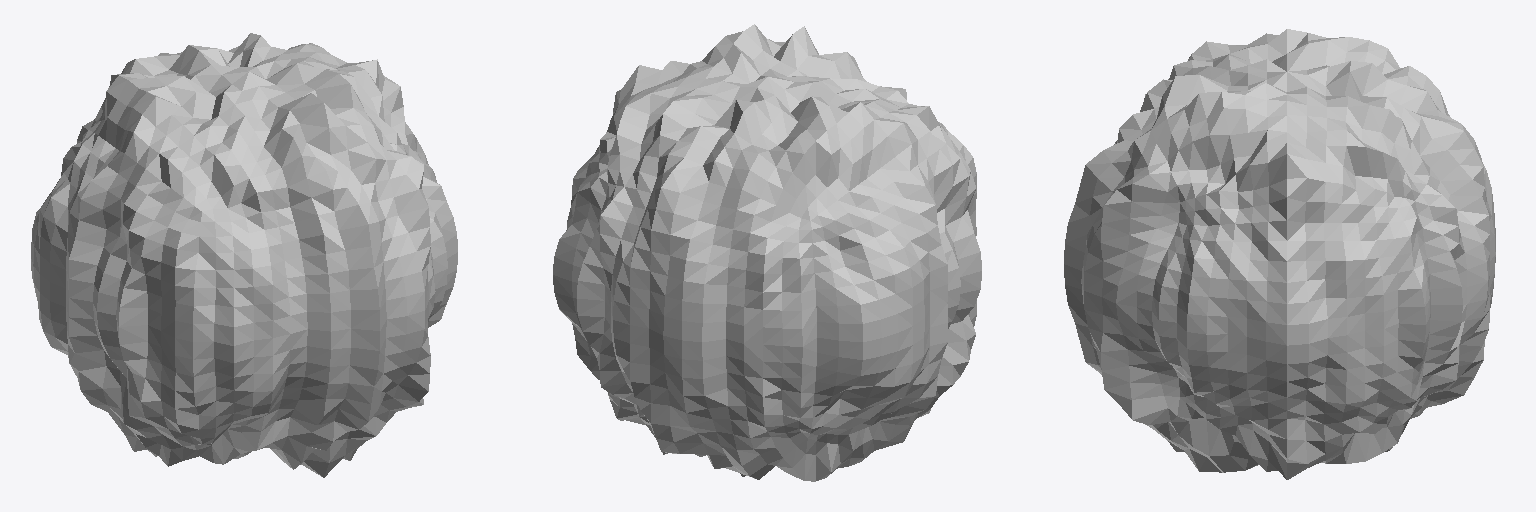
The model's file is asteroid14.obj.
3 renders of one model, left to right at view 1: azimuth 30°, elevation 25°; view 2: azimuth 150°, elevation 25°; view 3: azimuth 270°, elevation 25°, orthographic.
Visible parts, largest first — view 1: Cube_Cube.002; view 2: Cube_Cube.002; view 3: Cube_Cube.002.
Boxes of the visible parts, box(x1,y1,x2,y2) form: Cube_Cube.002: box(31, 33, 457, 477); Cube_Cube.002: box(553, 24, 981, 481); Cube_Cube.002: box(1064, 29, 1495, 479).
Bounding box in the file's own units: 1.76 × 1.74 × 1.79.